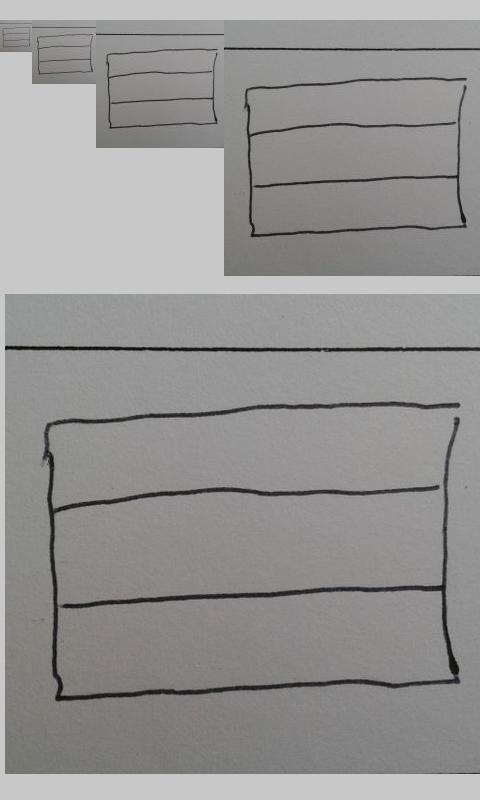list_view: (40, 397, 464, 703), (242, 75, 472, 239), (105, 46, 219, 130), (36, 33, 94, 76), (2, 26, 31, 48)
